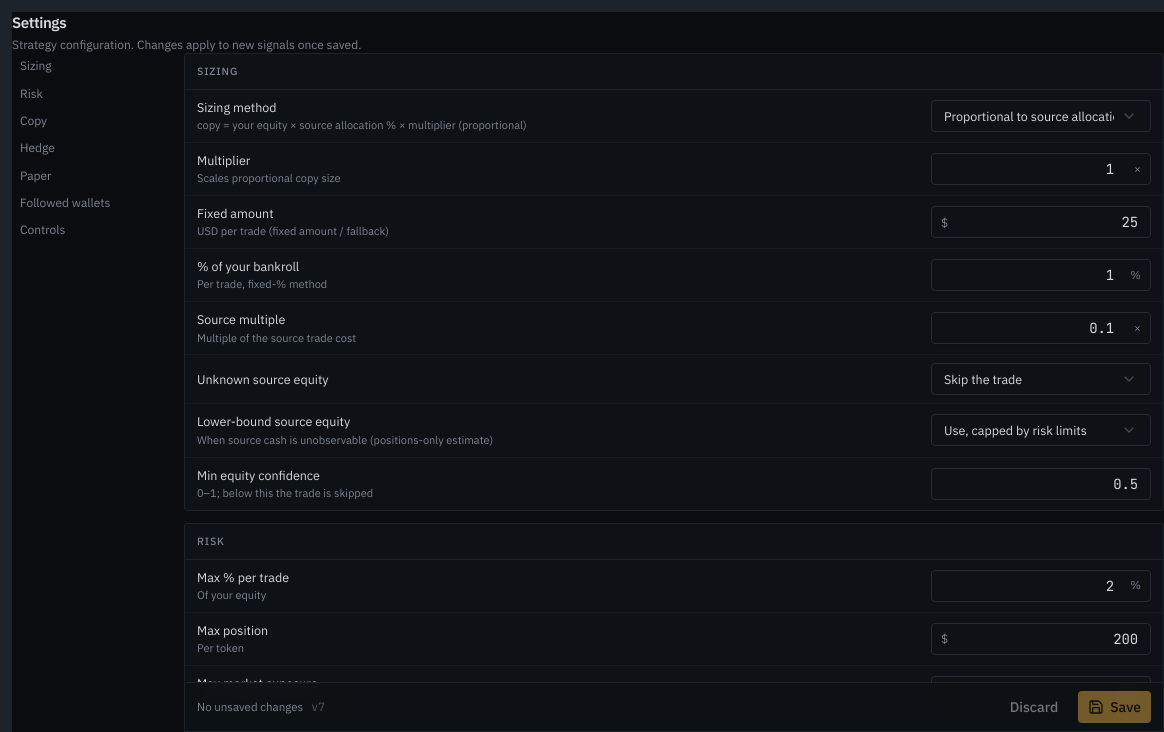
Test case: SettingsPage form › blocks invalid input client-side
Clear the field labelled "Max % per trade" at (1041, 586), box [931,570,1151,602]
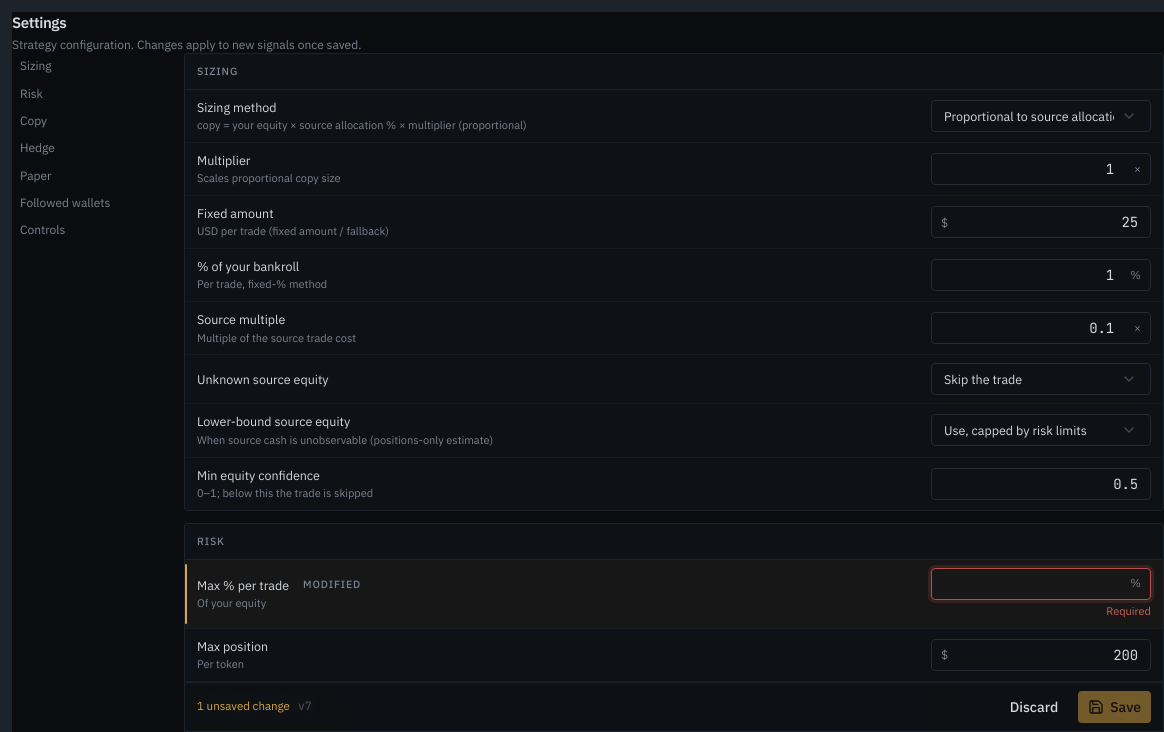
Type "150" into the field labelled "Max % per trade modified" at (1041, 584), box [931,568,1151,600]
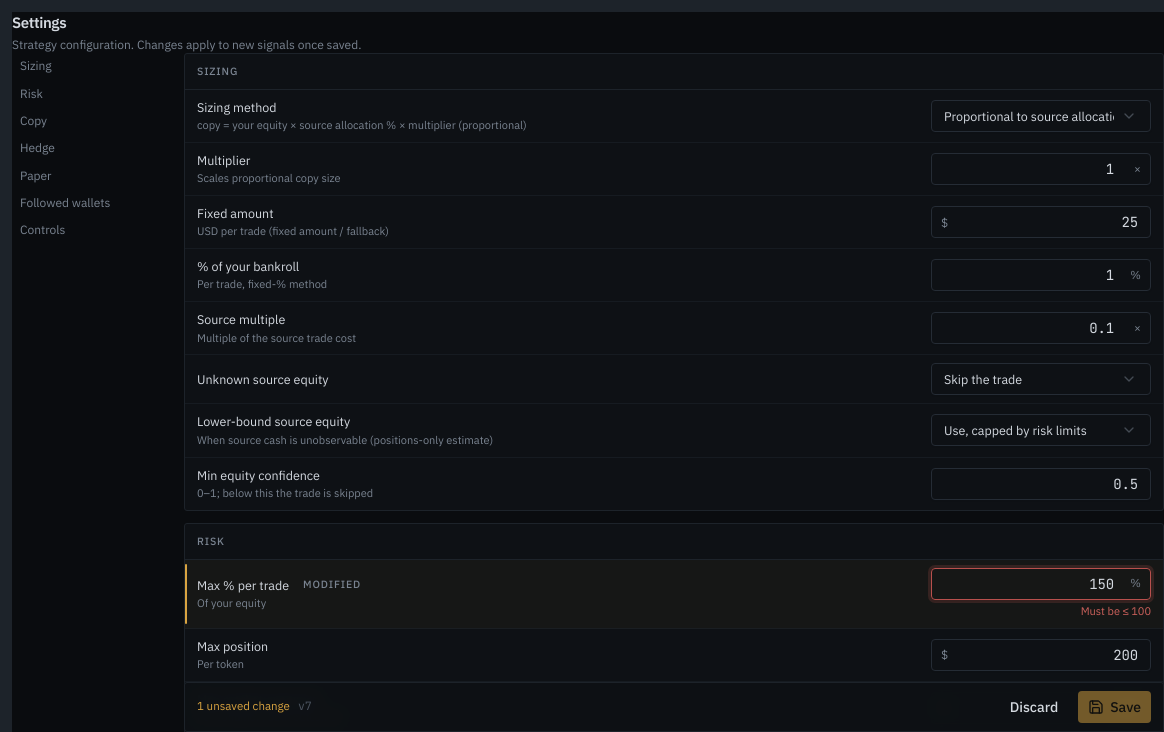
Expected: the button with test id "settings-save" is disabled, [1078,691,1151,723]
Now the text "Must be ≤ 100" is shown, box [1081,604,1151,618]
